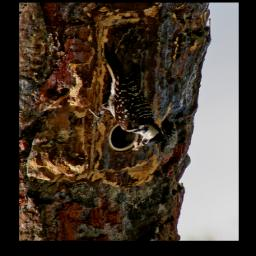Woodpecker: (88, 43, 164, 150)
